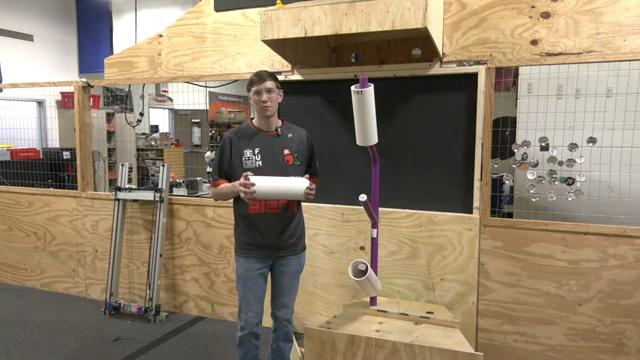CORAL: (350, 78, 378, 146), (247, 174, 310, 201), (349, 259, 382, 297)
